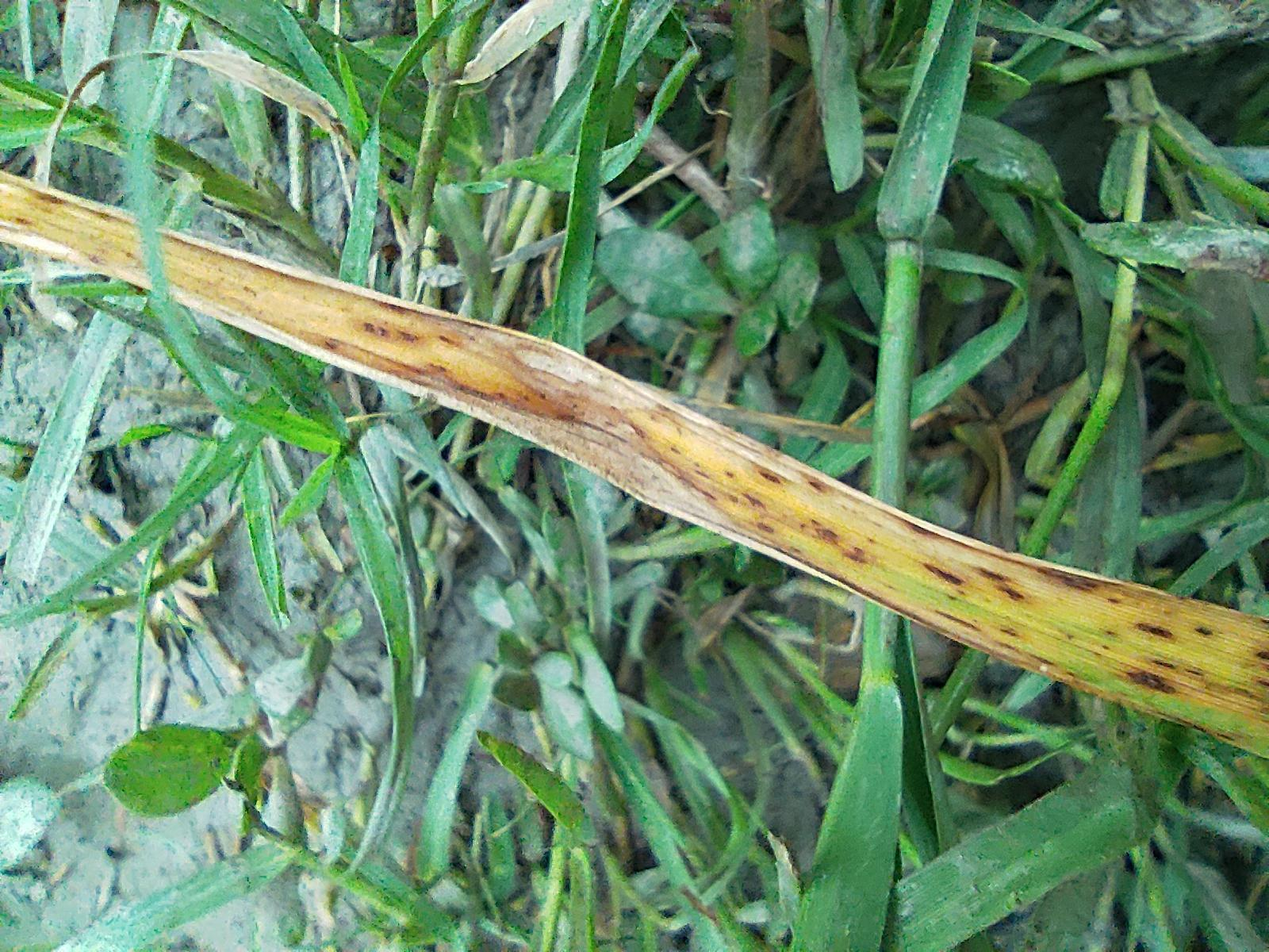NBS: (480, 776, 511, 821), (487, 692, 520, 724), (345, 845, 373, 881), (428, 701, 456, 736), (541, 608, 578, 629), (418, 852, 440, 879), (470, 745, 489, 768), (589, 557, 611, 574), (493, 735, 511, 754), (518, 632, 536, 650), (377, 862, 390, 883), (383, 772, 397, 791), (624, 569, 639, 586), (814, 298, 828, 314), (556, 683, 571, 697), (602, 525, 618, 538), (559, 567, 573, 581), (611, 606, 627, 618), (420, 897, 434, 910), (403, 746, 414, 761), (420, 750, 430, 763), (630, 522, 643, 532), (853, 292, 863, 305), (368, 889, 377, 902), (811, 328, 822, 338), (526, 641, 539, 649), (596, 546, 609, 554), (463, 830, 472, 840), (389, 943, 399, 951), (631, 543, 641, 551), (803, 243, 814, 250), (468, 710, 477, 718), (663, 503, 672, 511), (482, 662, 490, 671), (566, 654, 574, 662), (475, 717, 482, 725), (366, 799, 373, 805), (403, 826, 408, 833), (423, 829, 428, 836)
